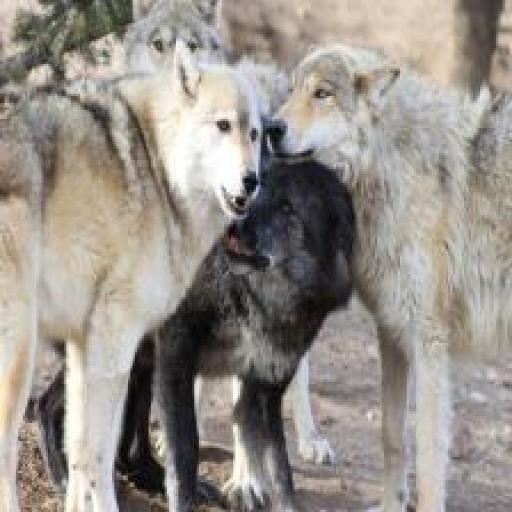wolf: (260, 2, 512, 510), (0, 50, 270, 511)
